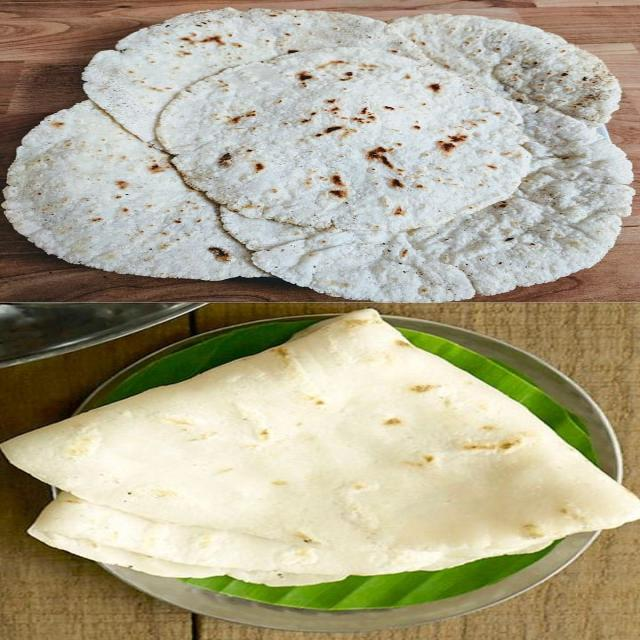ROTI: (4, 311, 636, 582), (5, 104, 258, 279)
